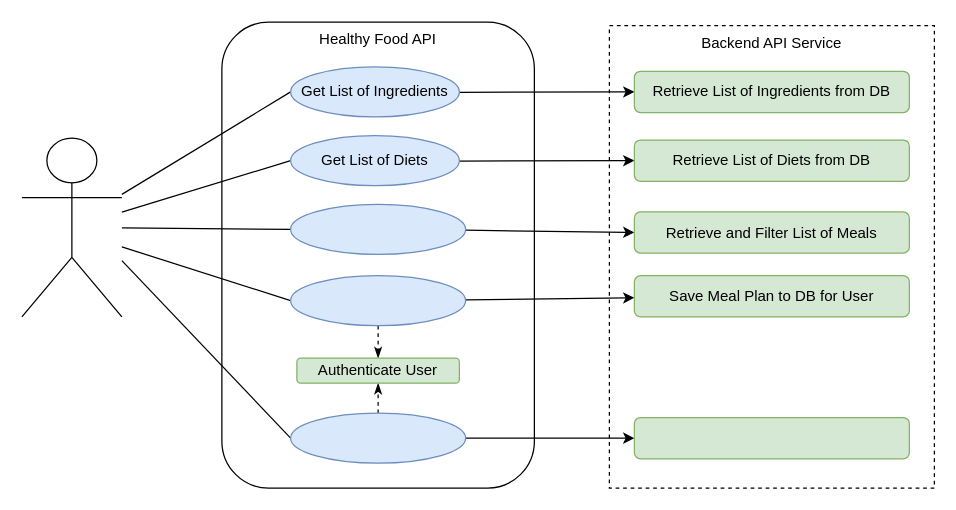
The diagram is 956 pixels wide and 510 high, and some of its shapes have lost their labels. Each missing label, with the box of its shape:
Create Meal Plan: (289, 274, 466, 326)
Get List of Meals: (289, 203, 466, 254)
Get Meal Plans: (289, 412, 466, 463)
Get Meal Plans from DB for User: (633, 416, 909, 459)
User: (21, 137, 122, 317)
